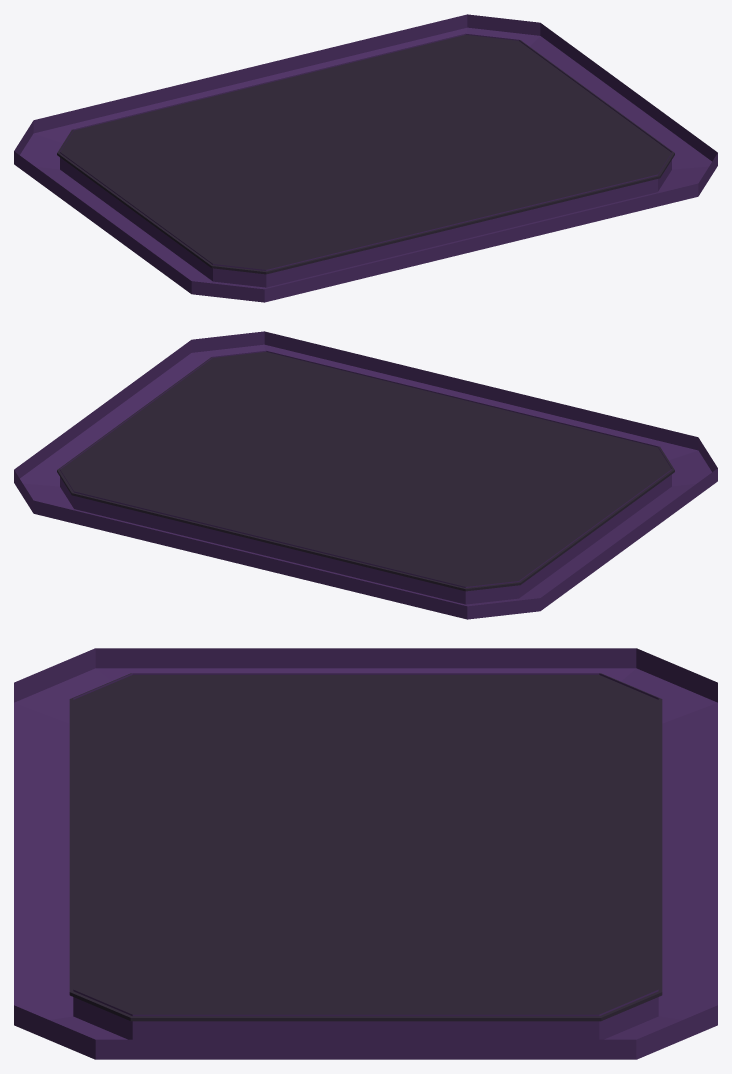
The model's file is SM_SB_Kit_AlienCoffer.fbx.
The picture shows the model from 3 angles, top to bottom: view 1: azimuth 30°, elevation 25°; view 2: azimuth 150°, elevation 25°; view 3: azimuth 270°, elevation 25°; orthographic projection. The views are drawn at different scales.
Visible parts, largest first — view 1: SM_SB_Kit_AlienCoffer; view 2: SM_SB_Kit_AlienCoffer; view 3: SM_SB_Kit_AlienCoffer.
Part boxes in pixels (x1,y1,x2,y2): SM_SB_Kit_AlienCoffer: (14,14,717,302); SM_SB_Kit_AlienCoffer: (14,331,717,619); SM_SB_Kit_AlienCoffer: (14,648,717,1059).
Size of the model in its own units: 500 by 380 by 16.
